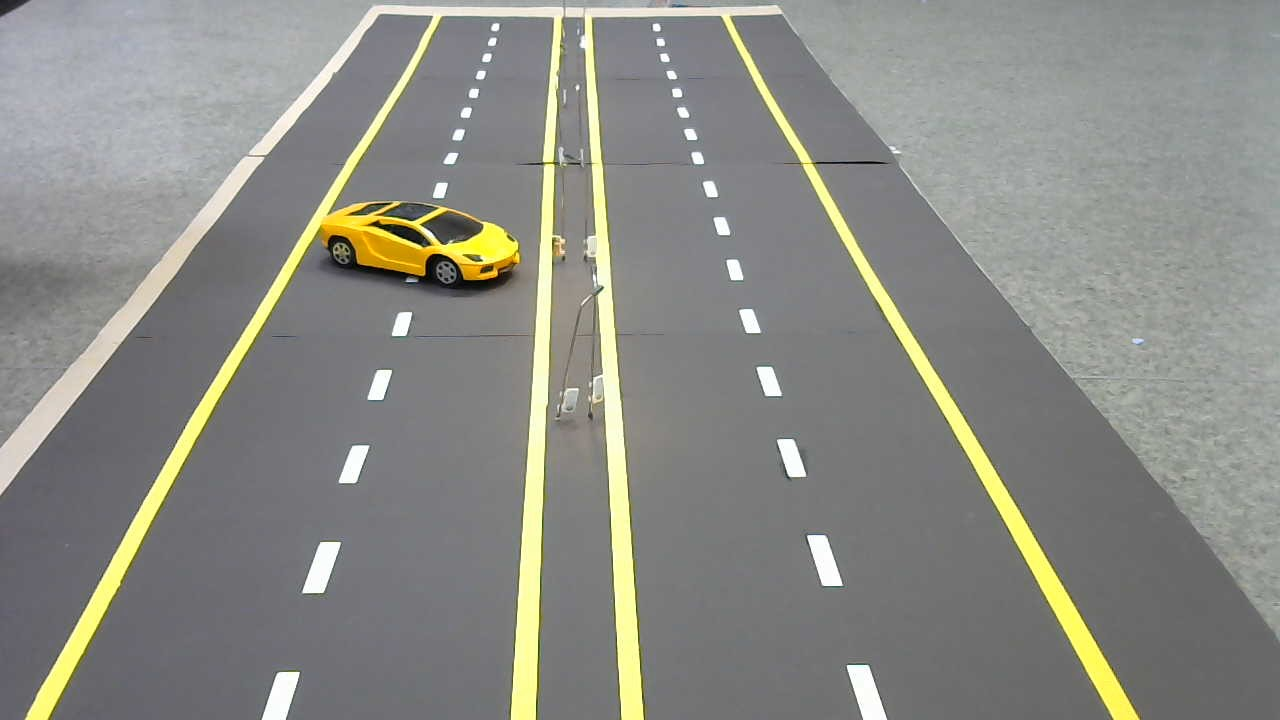overturn_car: (315, 191, 524, 295)
